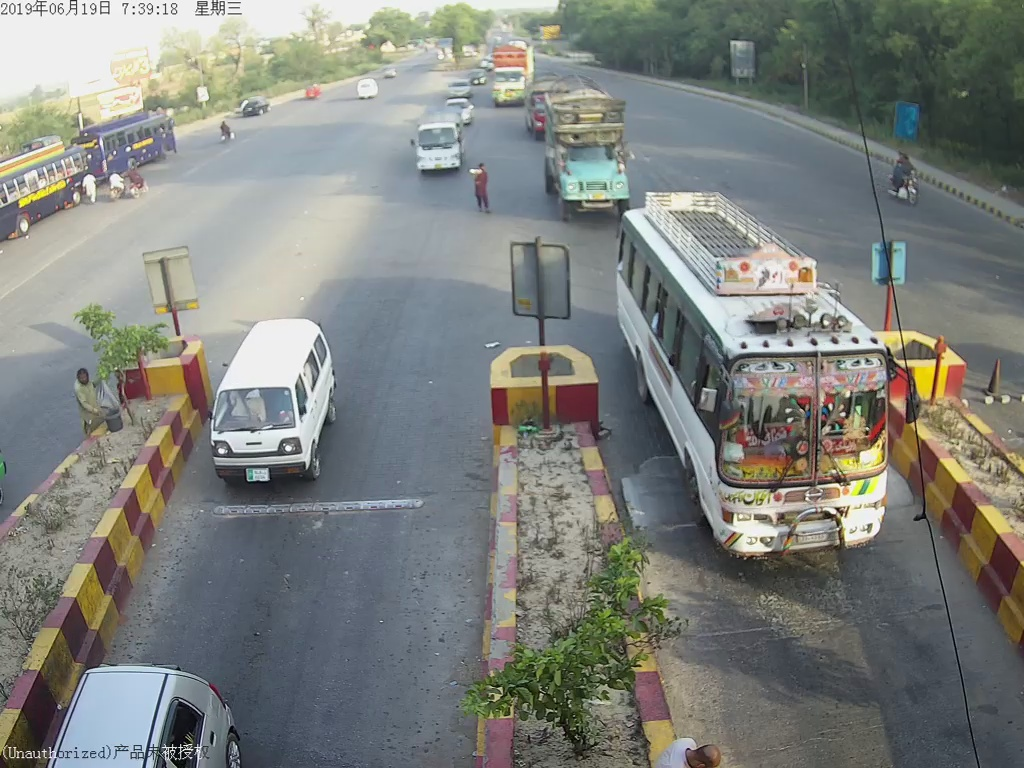Cat-1: (203, 313, 344, 488)
Cat-2: (407, 105, 468, 174)
Cat-3: (616, 179, 901, 566)
Cat-4: (546, 79, 636, 215)
